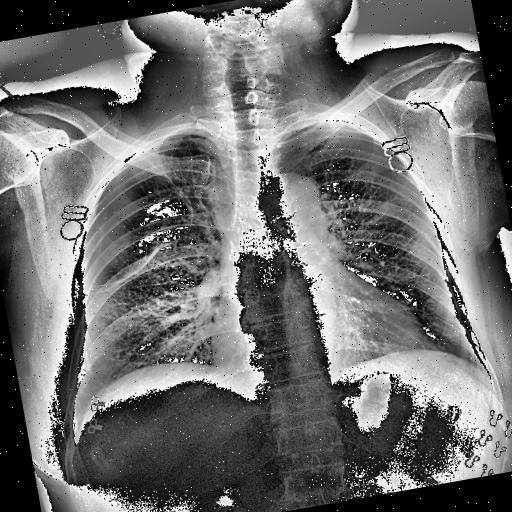0- Aortic enlargement: (252, 166, 326, 246), (254, 166, 326, 240), (256, 167, 324, 237)
13- Pulmonary fibrosis: (76, 238, 174, 300), (78, 237, 186, 291), (84, 238, 172, 296), (140, 154, 198, 235), (146, 150, 198, 234), (144, 148, 198, 226)
3- Cardiomegaly: (203, 277, 425, 381), (204, 296, 434, 394)
